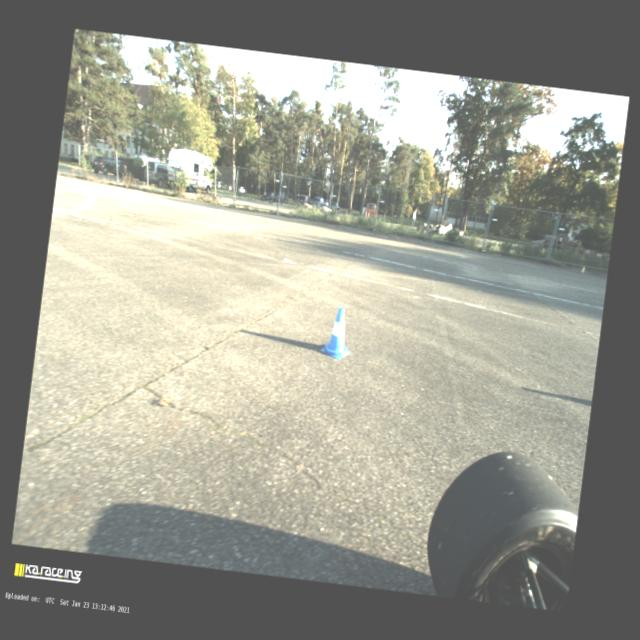blue_cone: (319, 304, 356, 360)
